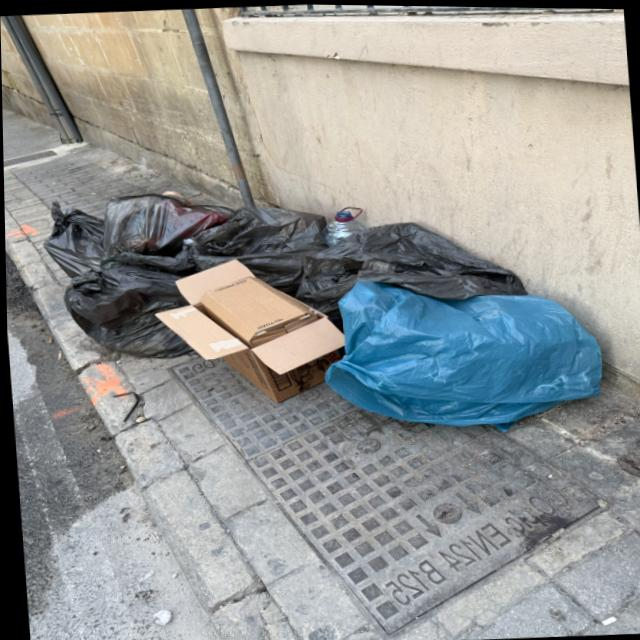Mixed Waste -Black Bags-: (42, 193, 523, 357)
Others Waste: (323, 280, 600, 431)
